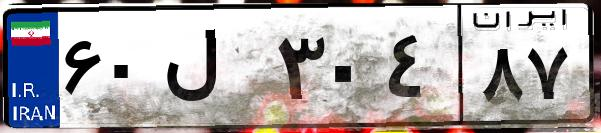0: (330, 28, 385, 110), (110, 28, 158, 98)
3: (270, 28, 330, 110)
4: (385, 28, 445, 110)
6: (57, 26, 110, 100)
7: (525, 38, 570, 115)
8: (475, 38, 525, 113)
ل: (158, 20, 270, 120)
